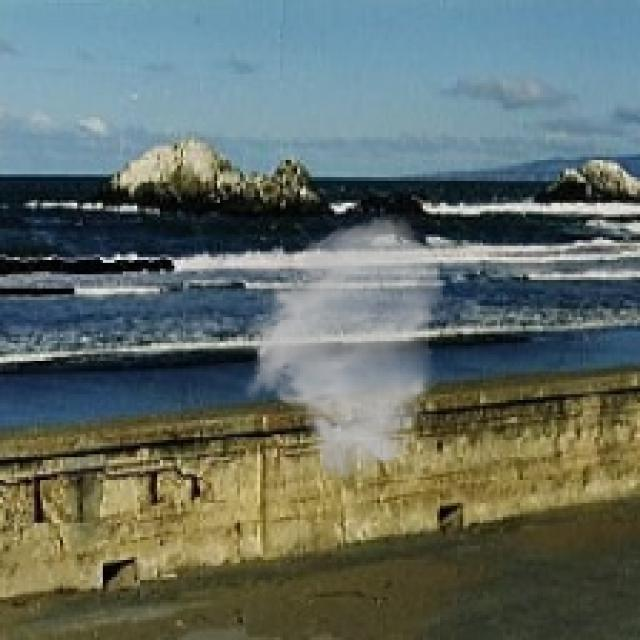Smoke: (243, 211, 446, 483)
